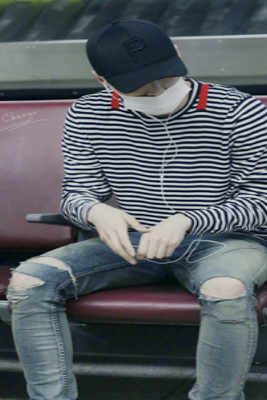mask_weared_incorrect: (111, 77, 194, 117)
